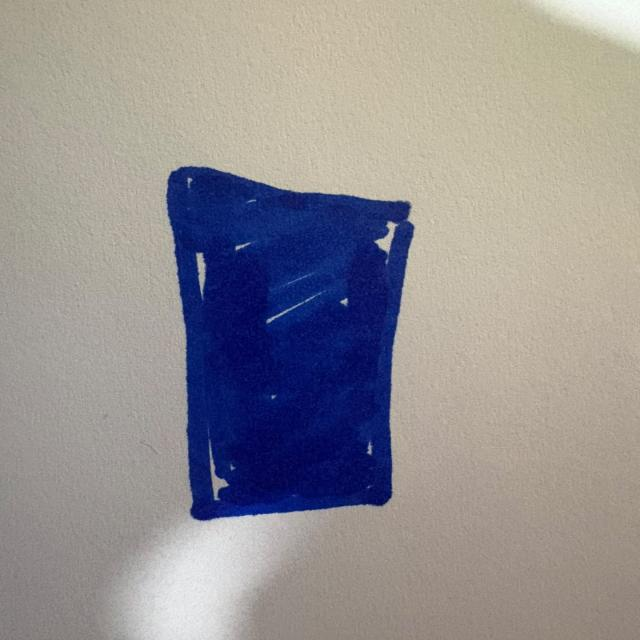Rectangle: (162, 162, 418, 528)
